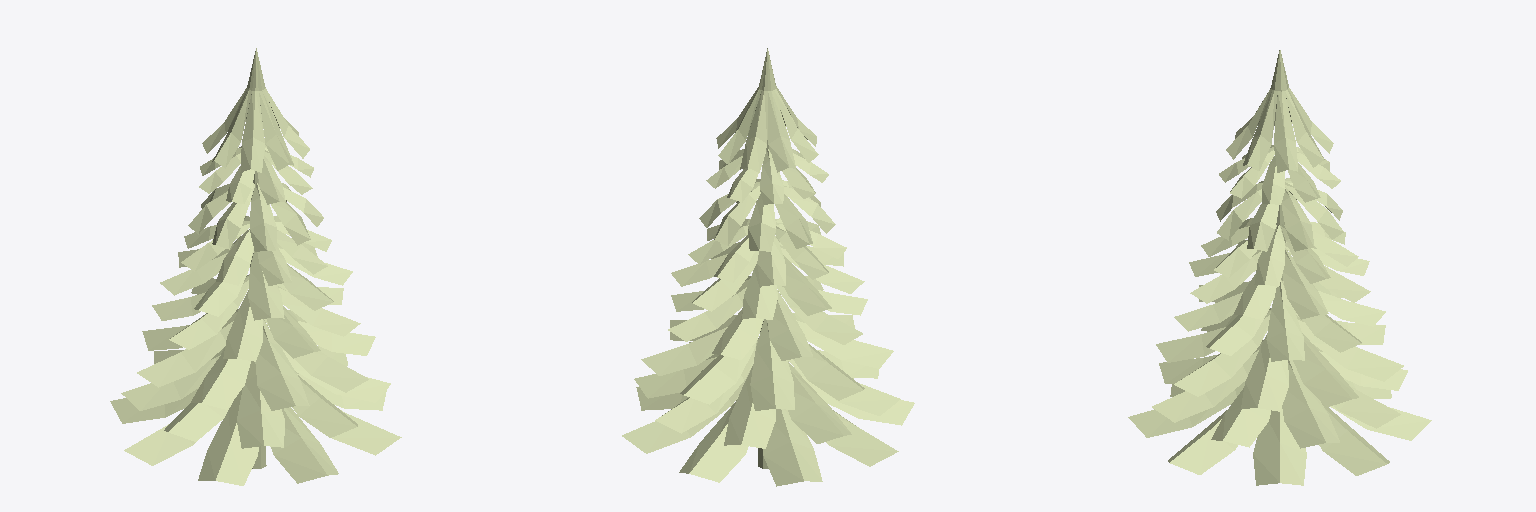
Rendered from Tree1.obj.
The picture shows the model from 3 angles: view 1: azimuth 30°, elevation 25°; view 2: azimuth 150°, elevation 25°; view 3: azimuth 270°, elevation 25°; orthographic projection.
Visible parts, largest first — view 1: Fir_Tree; view 2: Fir_Tree; view 3: Fir_Tree.
Part boxes in pixels (bbox=[...]): Fir_Tree: bbox=[110, 48, 401, 485]; Fir_Tree: bbox=[622, 48, 914, 486]; Fir_Tree: bbox=[1128, 50, 1431, 485].
Bounding box in the file's own units: 3.77 × 5.71 × 3.77.